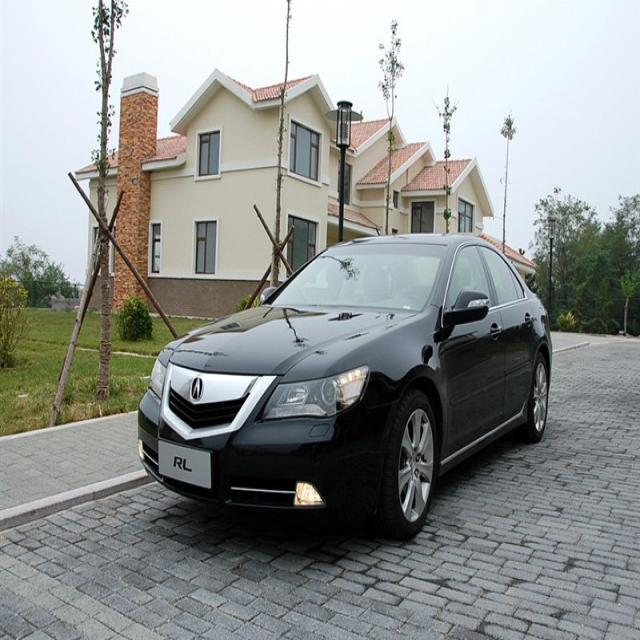door: (444, 246, 510, 445)
front_bumper: (137, 386, 393, 520)
front_glass: (268, 242, 450, 310)
front_left_side_light: (258, 362, 370, 424)
front_left_side_mirror: (440, 288, 490, 338)
front_right_side_light: (149, 356, 167, 403)
front_right_side_mirror: (260, 284, 278, 306)
wheel: (376, 385, 440, 541), (514, 351, 550, 444)
